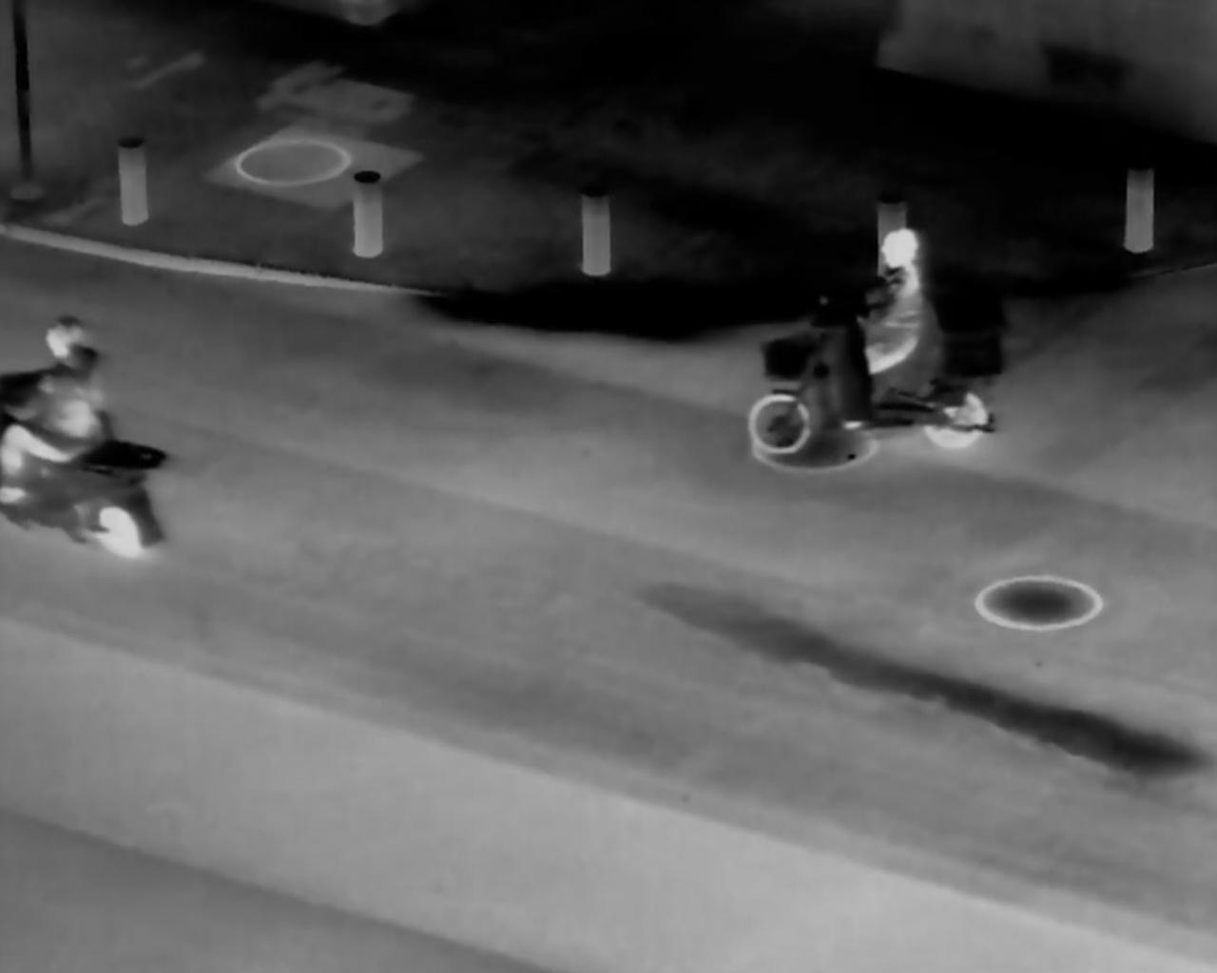person: (7, 315, 126, 517), (845, 214, 941, 436)
